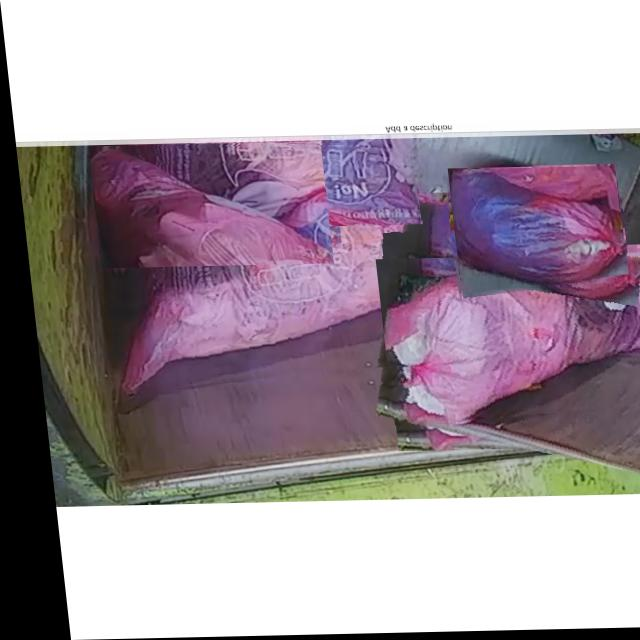other_trashbag: (114, 198, 447, 391), (377, 257, 640, 426), (89, 148, 327, 266), (447, 171, 620, 289), (270, 145, 417, 226)
